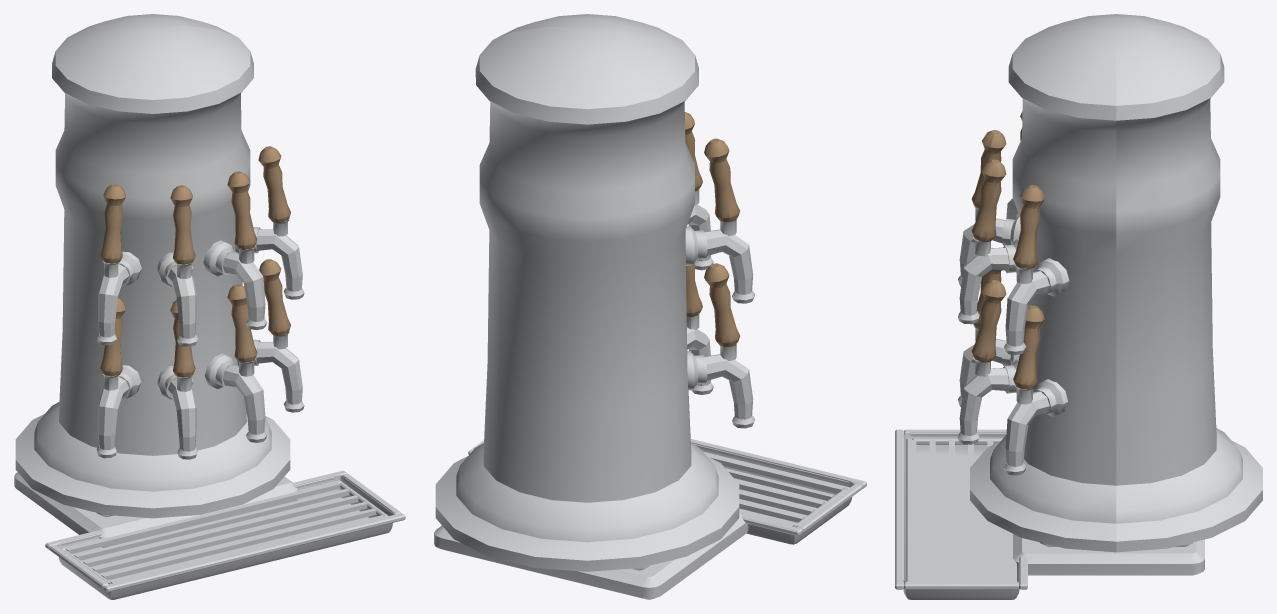
File: bar-pub-and-brewery-taproom-tap-font-8-f559747a__18342.glb
3 views of the same model, side by side, from view 1: azimuth 30°, elevation 25°; view 2: azimuth 150°, elevation 25°; view 3: azimuth 270°, elevation 25° (orthographic). The views are drawn at different scales.
Parts seen in each view (by area): view 1: tap-font-8; view 2: tap-font-8; view 3: tap-font-8.
Part boxes in pixels (x1=…): tap-font-8: x1=14, y1=14, x2=405, y2=599; tap-font-8: x1=434, y1=14, x2=866, y2=599; tap-font-8: x1=895, y1=14, x2=1262, y2=599.
Bounding box in the file's own units: 0.5 × 0.742 × 0.4984.
